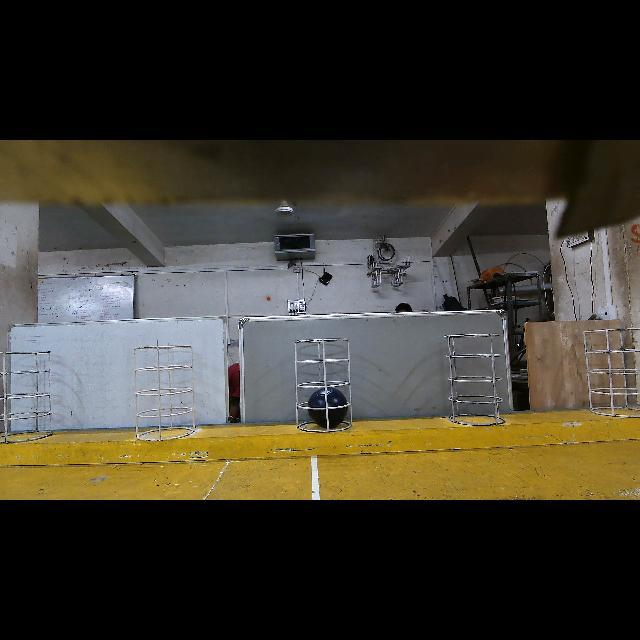P: (308, 388, 347, 426)
S: (124, 345, 200, 447), (444, 331, 508, 435), (291, 336, 355, 434), (578, 324, 640, 418), (0, 354, 50, 444)
